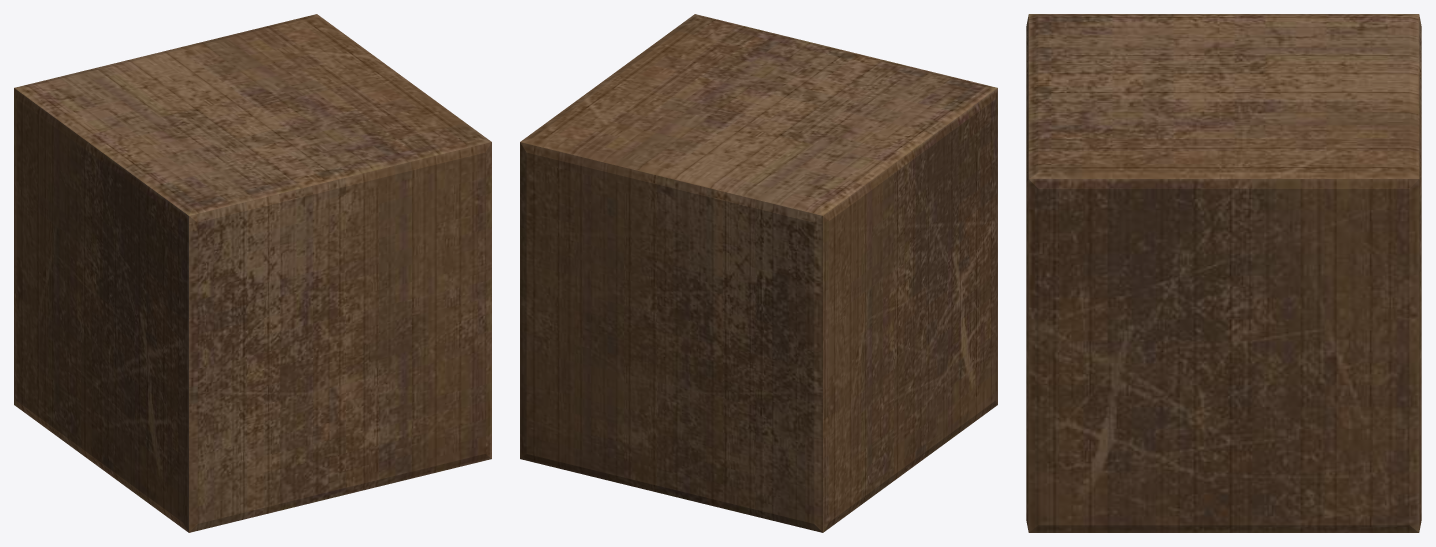
3 renders of one model, left to right at view 1: azimuth 30°, elevation 25°; view 2: azimuth 150°, elevation 25°; view 3: azimuth 270°, elevation 25°, orthographic. The views are drawn at different scales.
Visible parts, largest first — view 1: floor_wood_block; view 2: floor_wood_block; view 3: floor_wood_block.
Boxes of the visible parts, x1=… form: floor_wood_block: x1=14, y1=14, x2=491, y2=532; floor_wood_block: x1=520, y1=14, x2=997, y2=532; floor_wood_block: x1=1026, y1=14, x2=1421, y2=532.
Bounding box in the file's own units: 4.05 × 4.05 × 4.05.
1 material, 1 textured.
